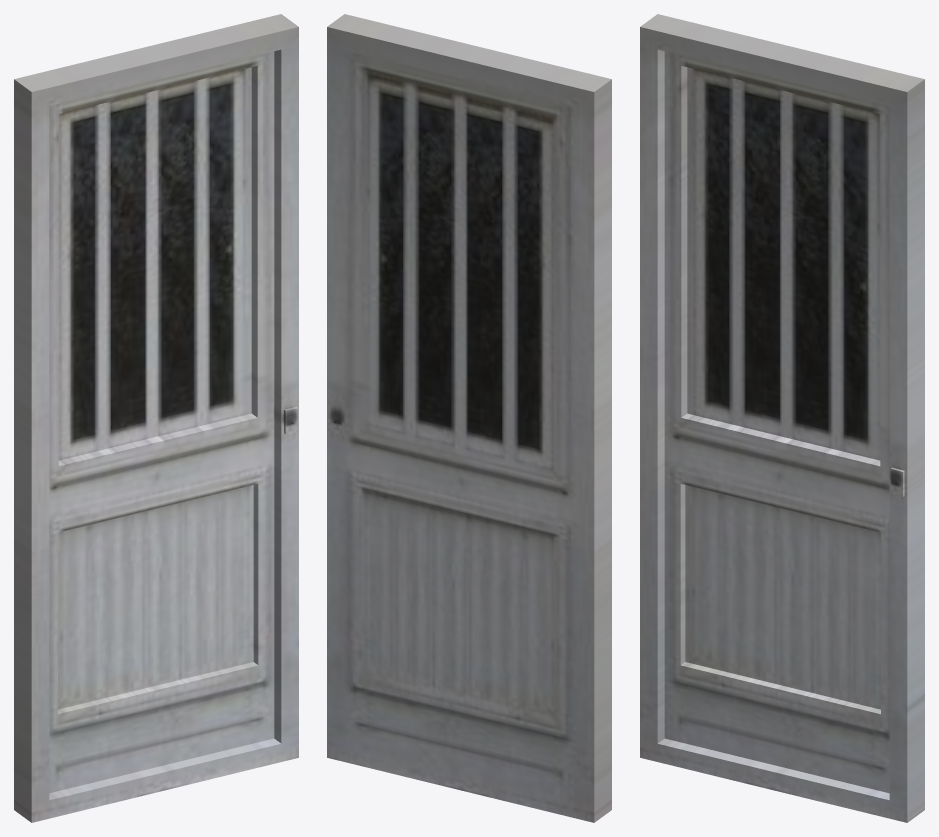
File: Door.fbx
3 renders of one model, left to right at view 1: azimuth 30°, elevation 25°; view 2: azimuth 150°, elevation 25°; view 3: azimuth 330°, elevation 25°, orthographic.
Parts seen in each view (by area): view 1: Door.001; view 2: Door.001; view 3: Door.001.
Boxes of the visible parts, x1=… form: Door.001: x1=14, y1=14, x2=298, y2=822; Door.001: x1=327, y1=14, x2=611, y2=822; Door.001: x1=640, y1=14, x2=924, y2=822.
Size of the model in its own units: 87.4 by 228 by 10.95.
